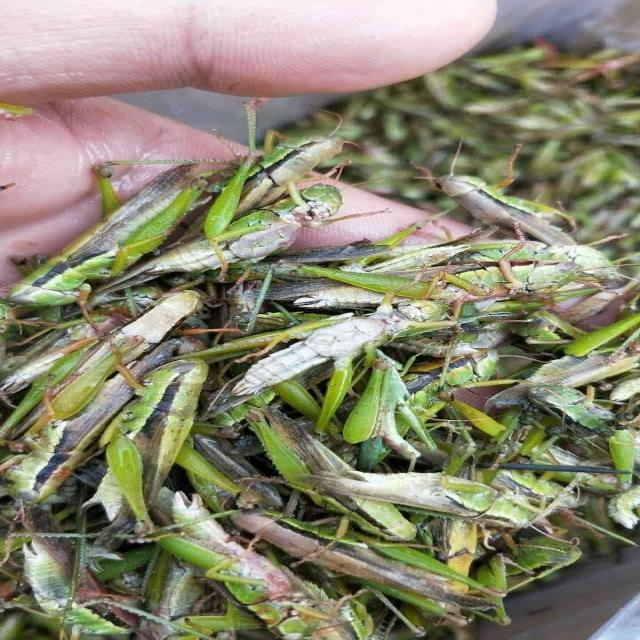ZhaMeng: (2, 149, 222, 323)
